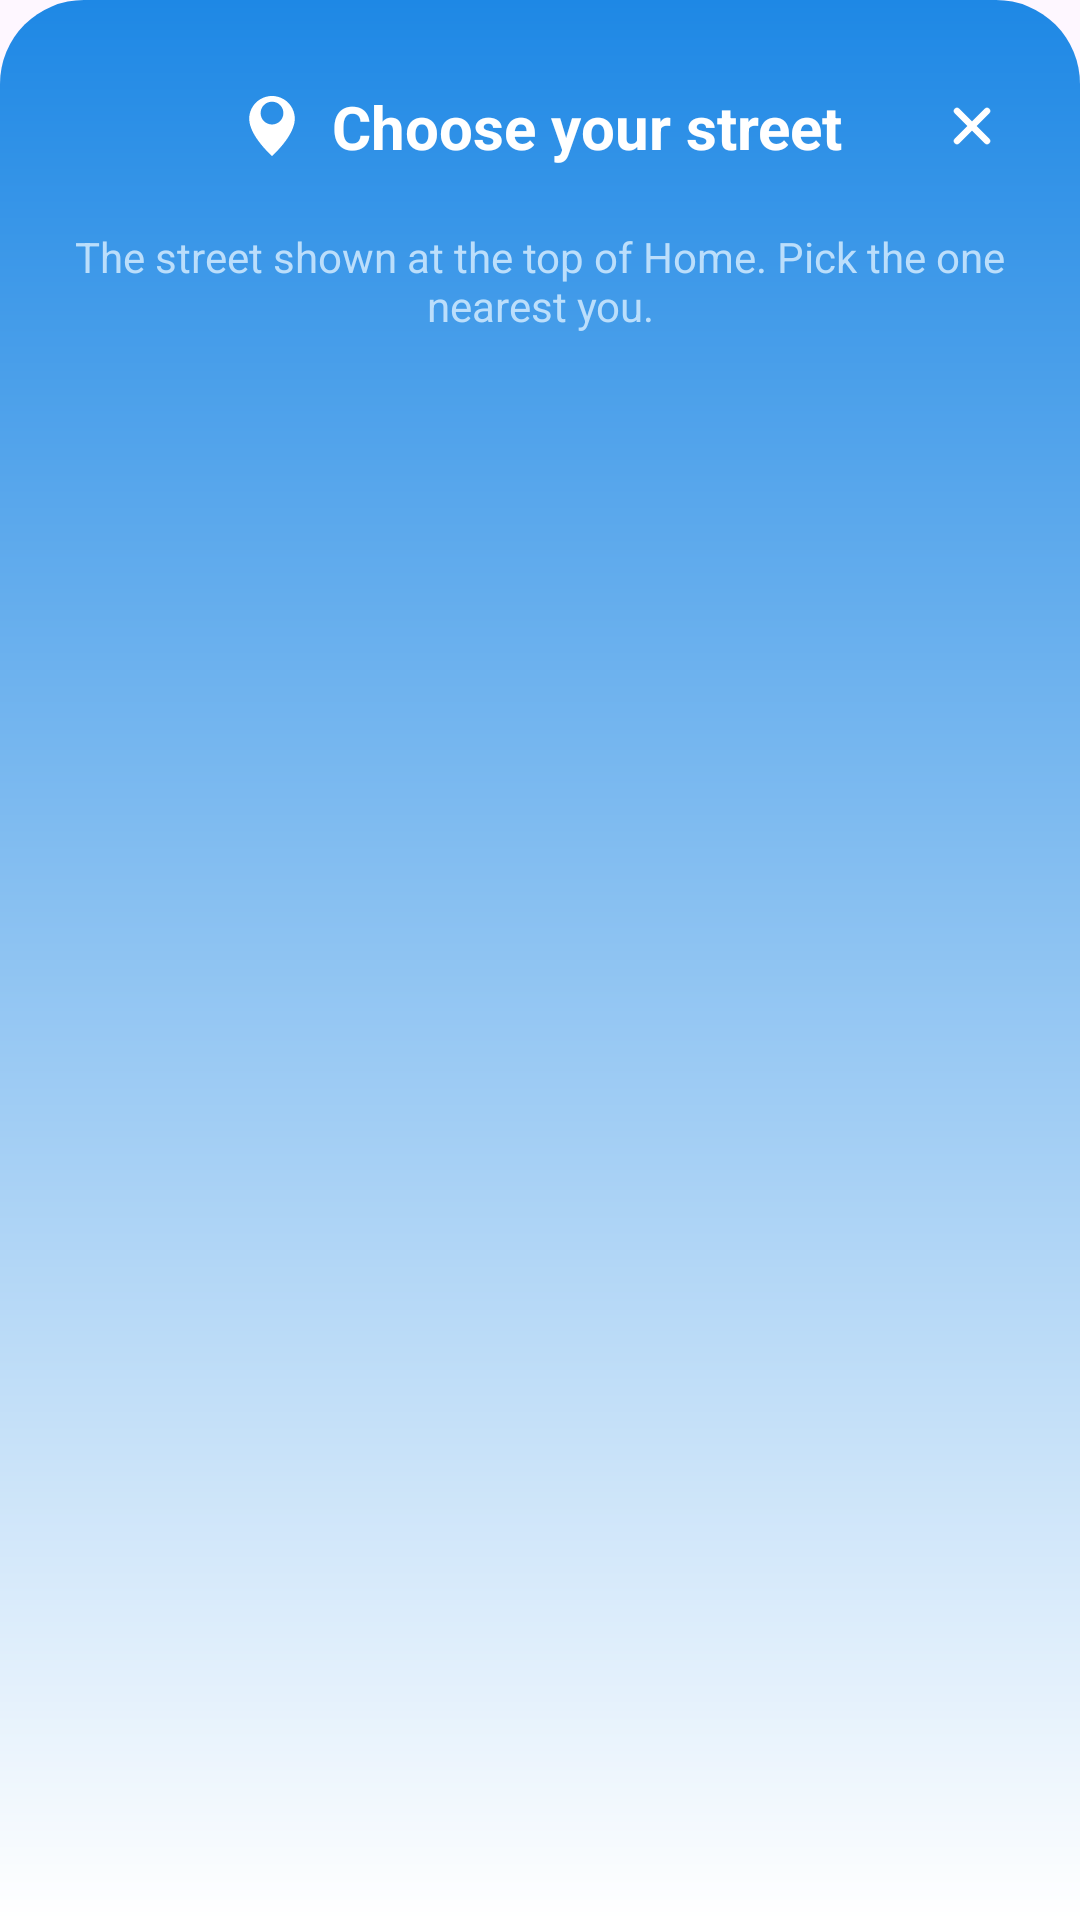

Where to tap for icons on this 1080x1920 app screen, as [x,y]:
Close: [972,126]
location pin: [272,126]
